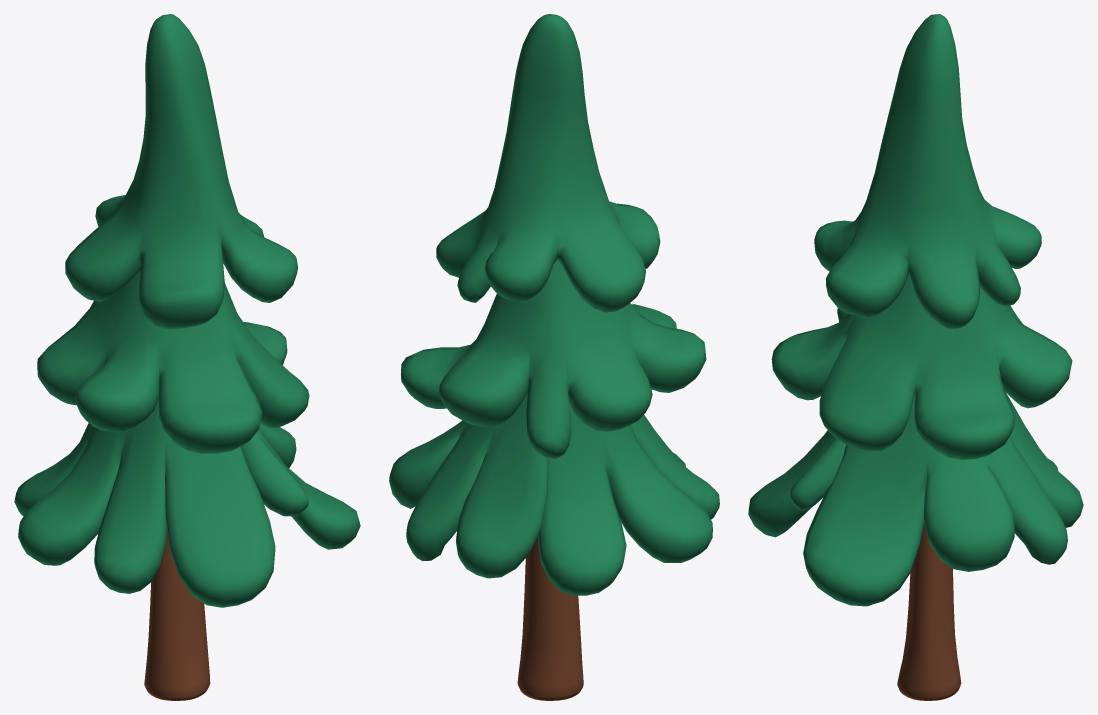
Rendered from Pine_01.fbx.
The picture shows the model from 3 angles, left to right: view 1: azimuth 30°, elevation 25°; view 2: azimuth 150°, elevation 25°; view 3: azimuth 270°, elevation 25°; orthographic projection.
Visible parts, largest first — view 1: Pine_01_LOD0; view 2: Pine_01_LOD0; view 3: Pine_01_LOD0.
Part boxes in pixels (left/top/right/bottom): Pine_01_LOD0: left=14, top=14, right=360, bottom=700; Pine_01_LOD0: left=389, top=14, right=719, bottom=700; Pine_01_LOD0: left=748, top=14, right=1083, bottom=700.
Size of what is drawn, in the model's own units: 666 by 1447 by 655.
